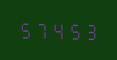five: (18, 19, 33, 39), (66, 20, 81, 40)
four: (50, 19, 65, 40)
seven: (34, 19, 49, 39)
three: (82, 20, 97, 40)
